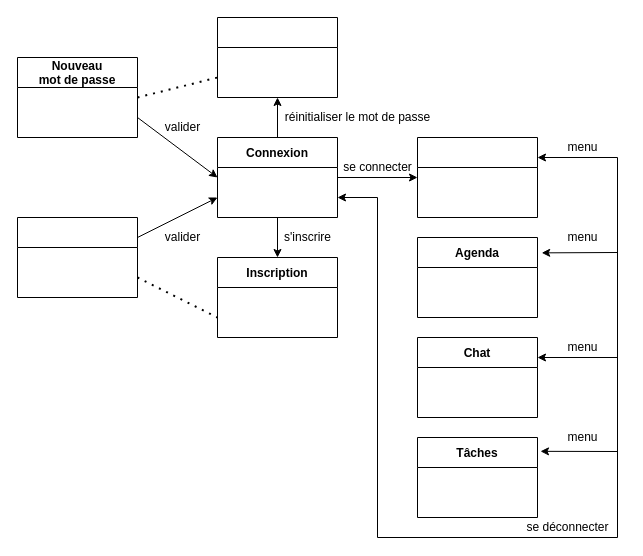
The diagram is 643 pixels wide and 556 high, and some of its shapes have lost their labels. Here are the shapes that lost their labels. From the top down, the centre of each, then its label:
[277,57]: Mot de passe oublié
[477,177]: Tableau de bord
[77,257]: Validation du compte
